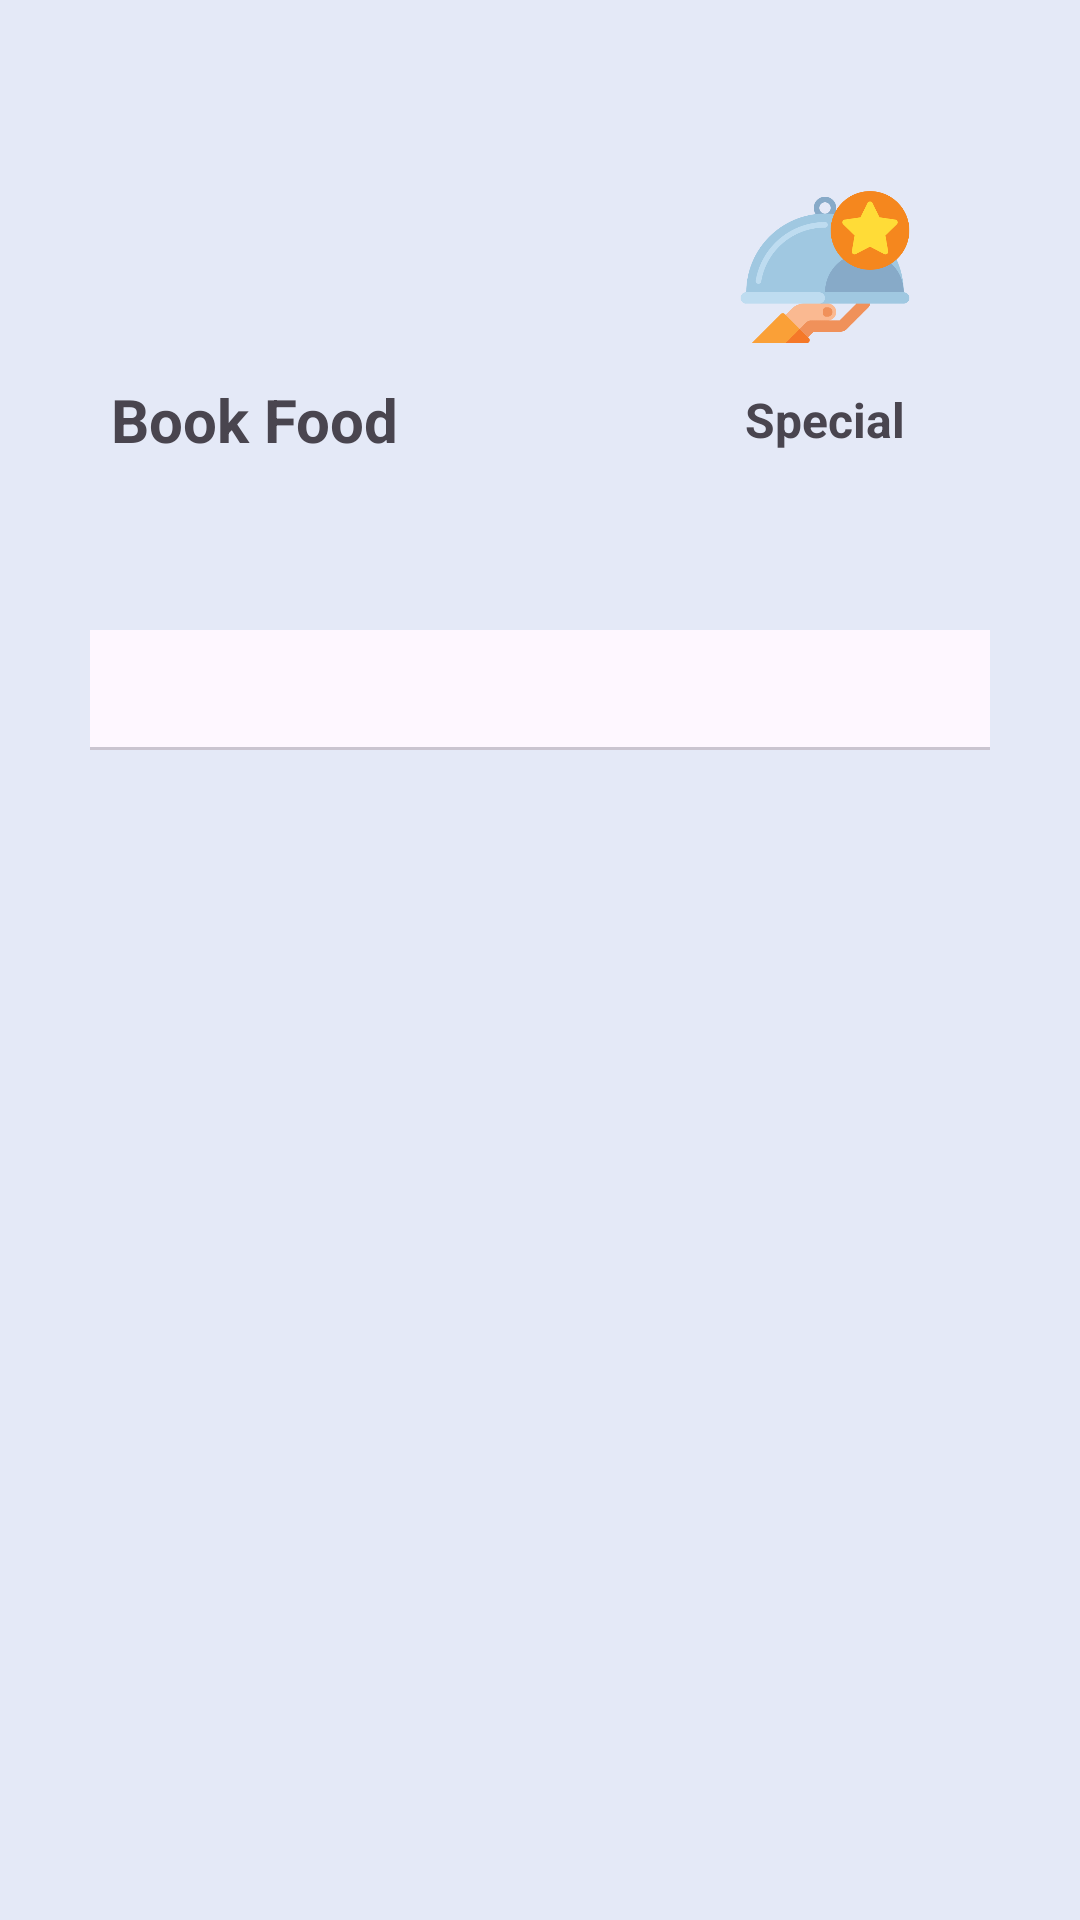

Point at icon controls on the screen. Image size 1080w x 1920h, points as (x=x, y=y).
catering: (x=825, y=267)
